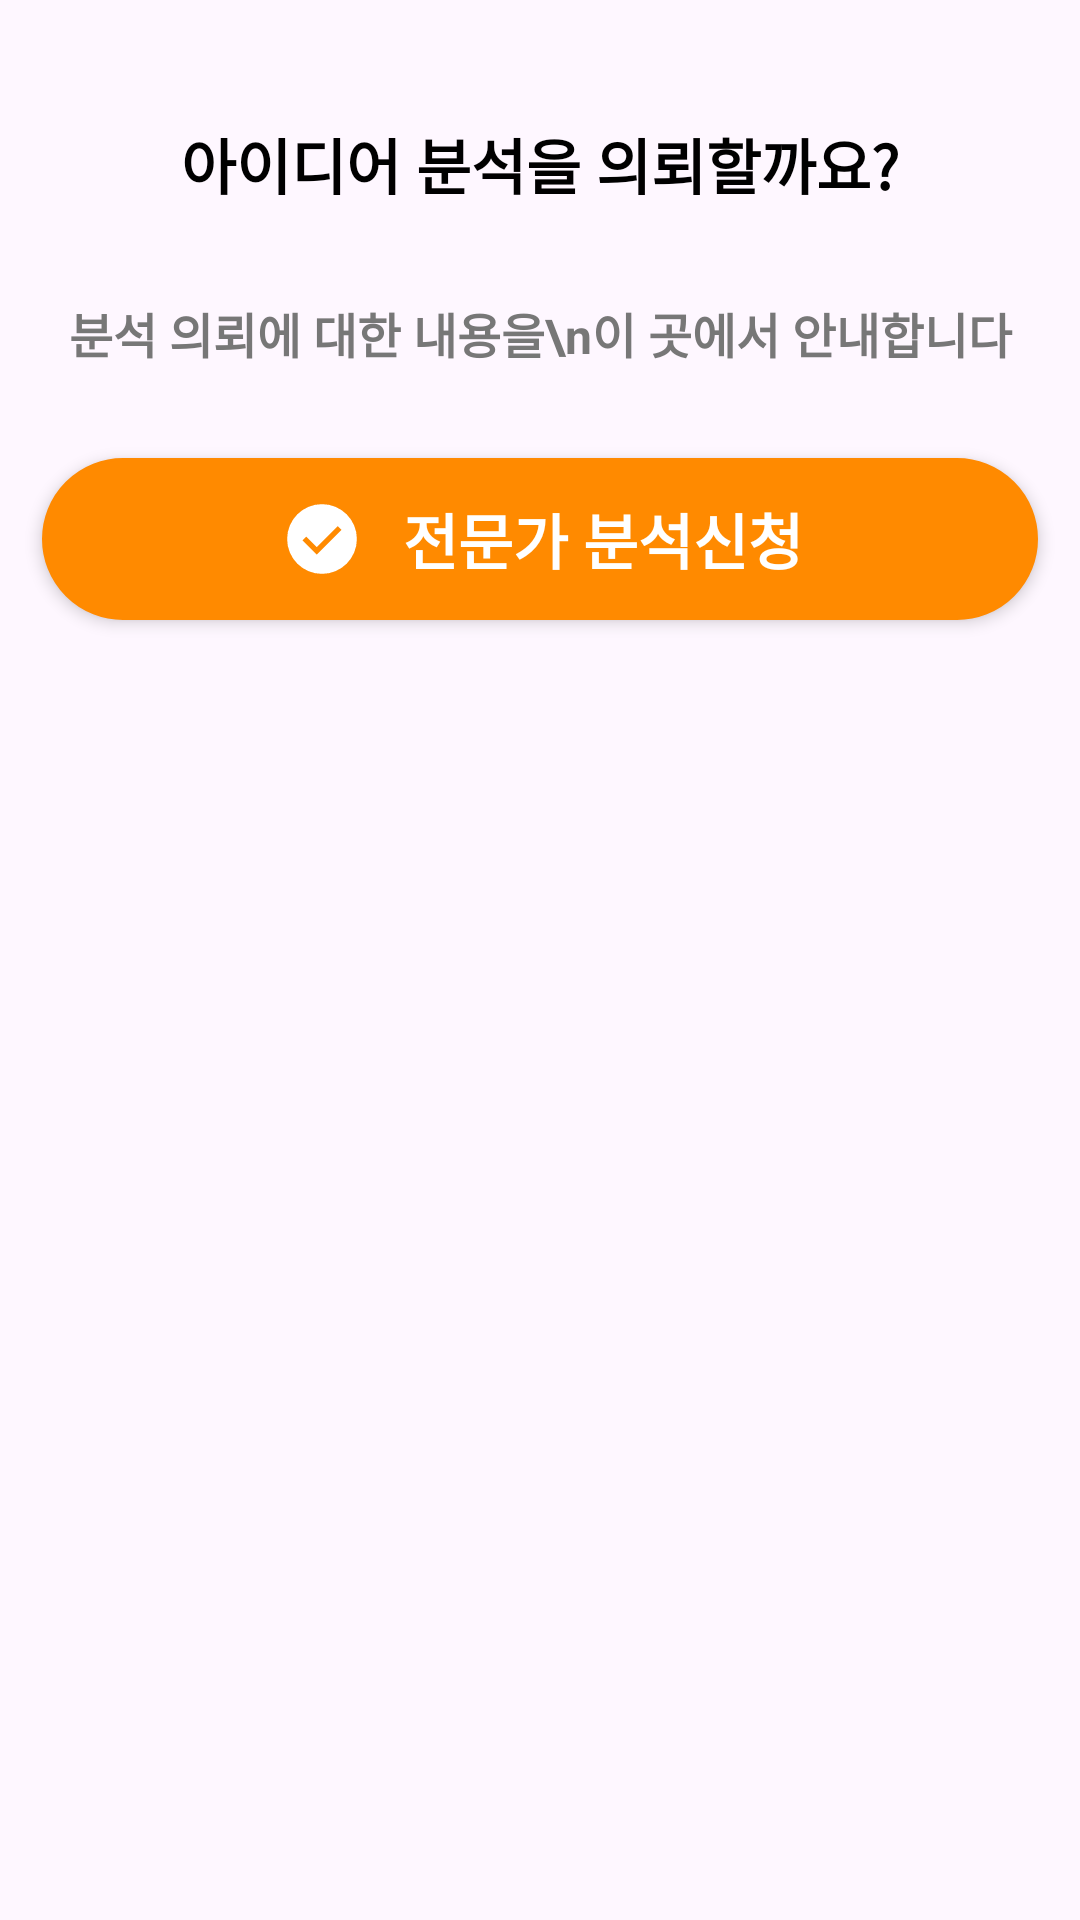

Screen size 1080w x 1920h. Icon name, then its box in pixels as (x1, y1, x2, y2):
check circle: (287, 504, 357, 574)
